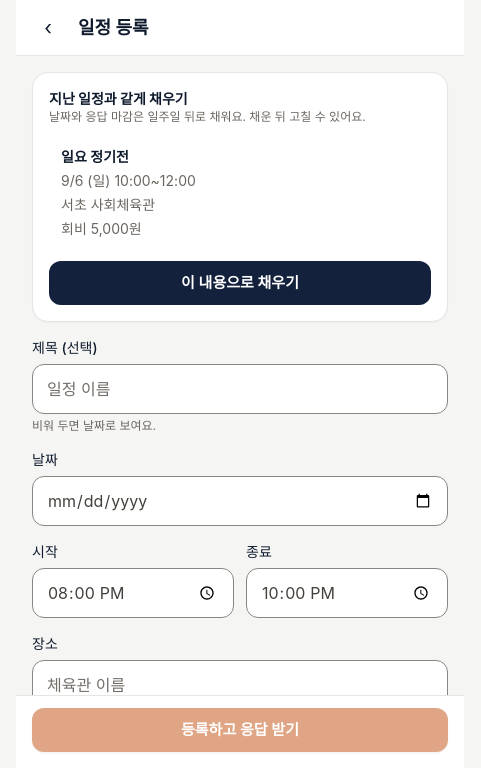
Test: EventCreatePage › 시작 시각을 바꾸면 종료가 2시간 뒤로 따라온다
Expected: the button "이 내용으로 채우기" is shown, [49,261,431,305]
Replace the text in the time field labelled "시작" with "19:30": coordinates (133, 593) [32,568,234,618]
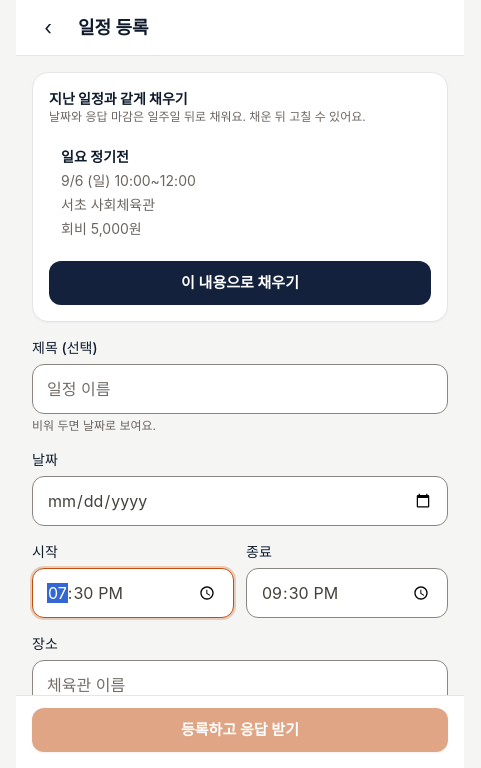
Now the time field labelled "종료" holds "21:30", box [246,568,448,618]
